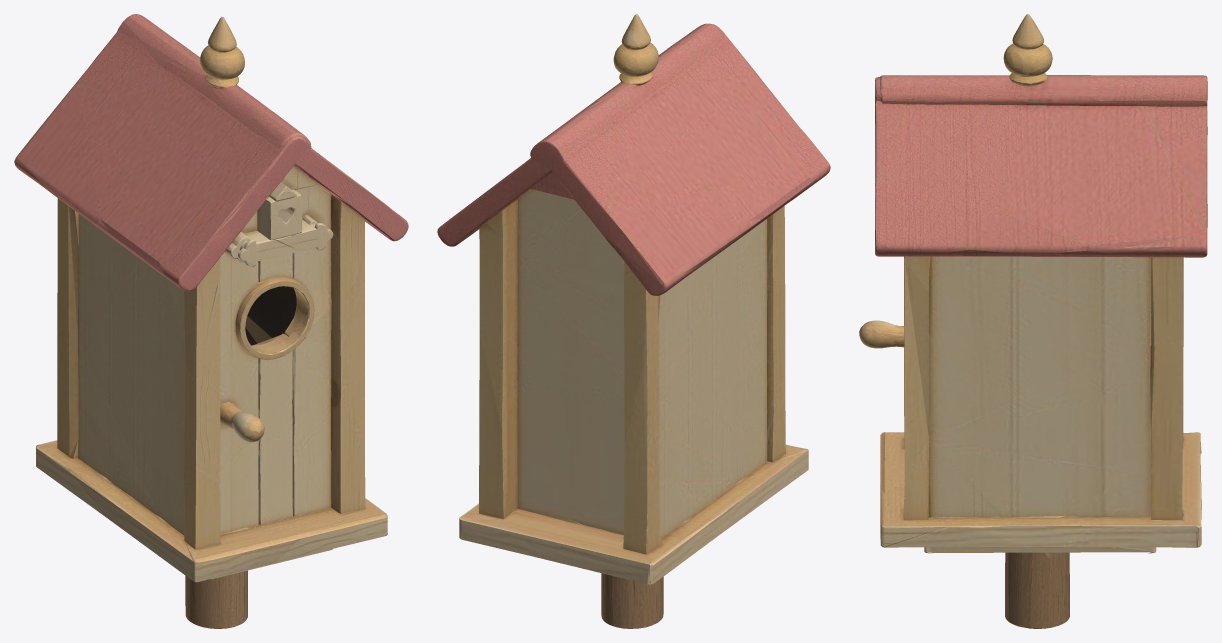
File: birdhouse.glb
3 views of the same model, side by side, from view 1: azimuth 30°, elevation 25°; view 2: azimuth 150°, elevation 25°; view 3: azimuth 270°, elevation 25° (orthographic).
Bounding box in the file's own units: 0.7687 × 1.9 × 0.9971.
Materials: 1 (1 with a texture image).
